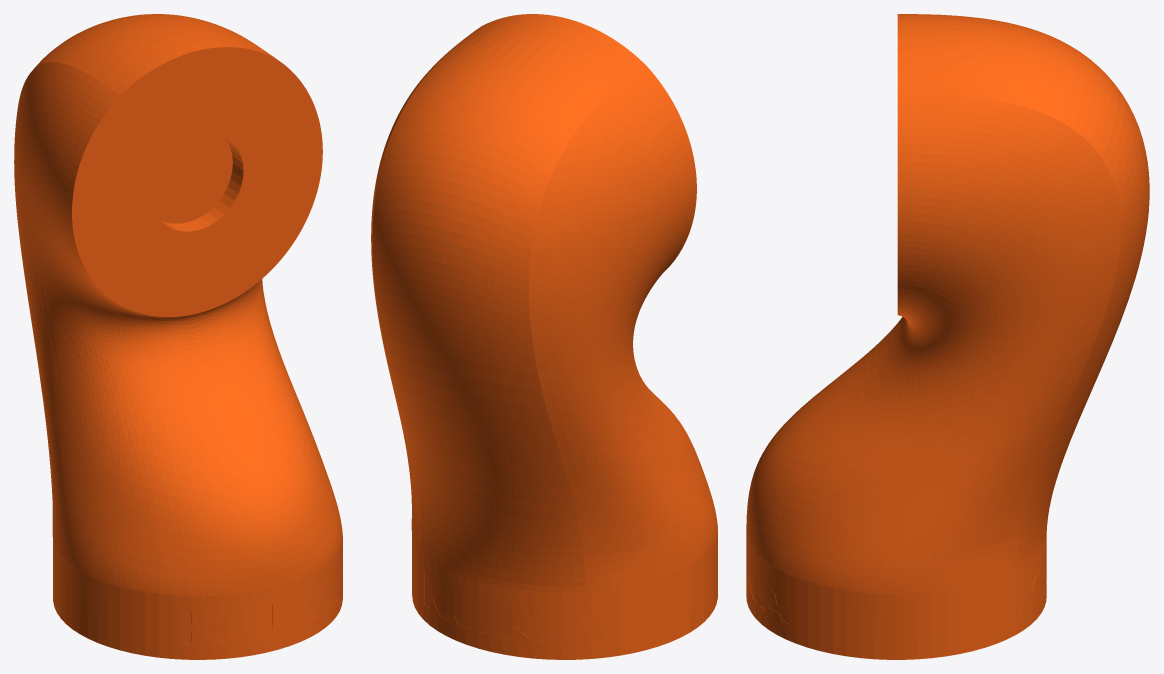
The model's file is iiwa_link_3.dae.
3 renders of one model, left to right at view 1: azimuth 30°, elevation 25°; view 2: azimuth 150°, elevation 25°; view 3: azimuth 270°, elevation 25°, orthographic. The views are drawn at different scales.
Parts seen in each view (by area): view 1: Iiwa Link 3; view 2: Iiwa Link 3; view 3: Iiwa Link 3.
Part boxes in pixels (<box>): Iiwa Link 3: <box>14,14,342,659</box>; Iiwa Link 3: <box>371,14,717,659</box>; Iiwa Link 3: <box>746,14,1149,659</box>.
Bounding box in the file's own units: 0.136 × 0.1826 × 0.2935.
